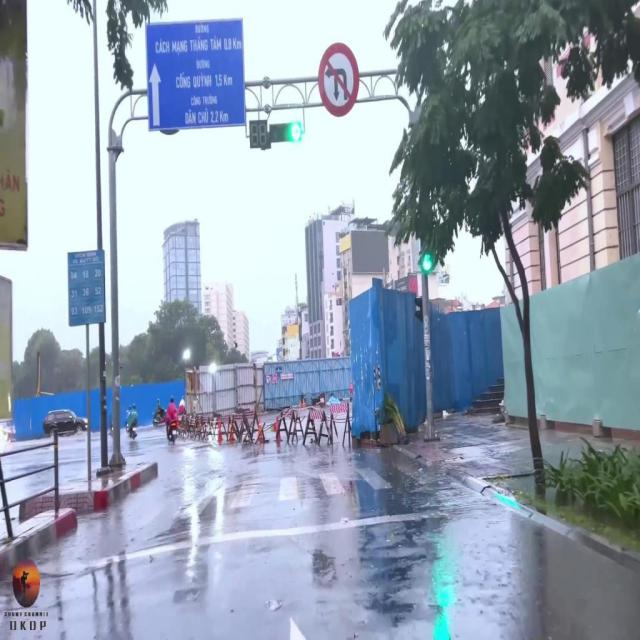cam_re_trai: (267, 375, 271, 383)
khac: (146, 21, 244, 131), (320, 46, 358, 113)
